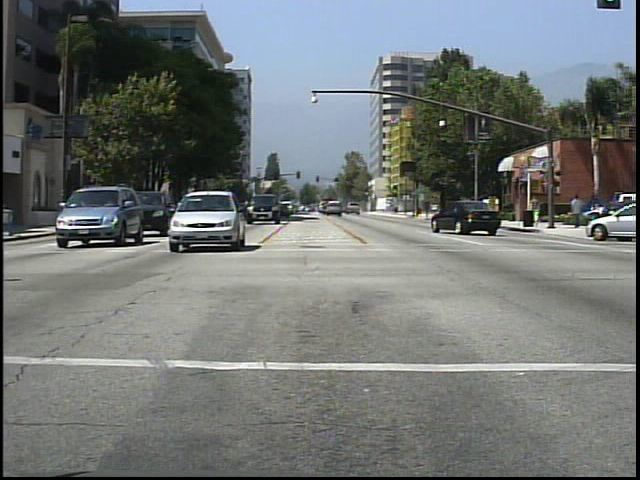person: (569, 191, 587, 230), (531, 193, 544, 228)
